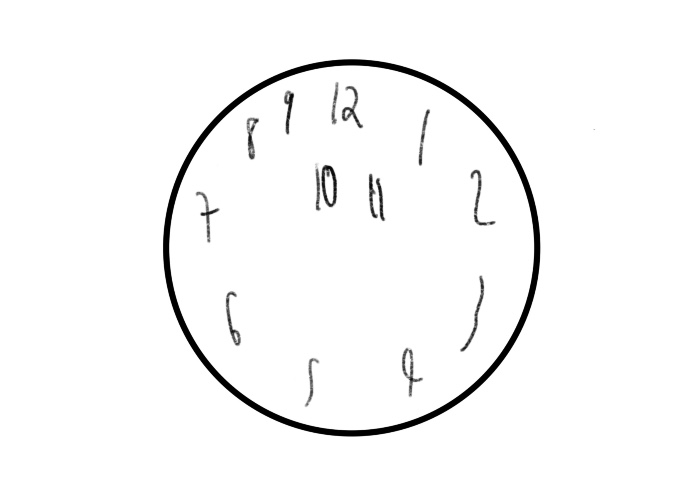eight: (243, 113, 262, 165)
eleven: (364, 172, 388, 222)
five: (302, 352, 323, 411)
four: (398, 340, 425, 403)
nine: (280, 87, 297, 138)
one: (416, 105, 430, 165)
seven: (191, 186, 219, 242)
six: (223, 284, 248, 348)
ten: (308, 161, 341, 214)
three: (458, 273, 483, 351)
twelve: (329, 81, 363, 129)
two: (467, 165, 497, 231)
